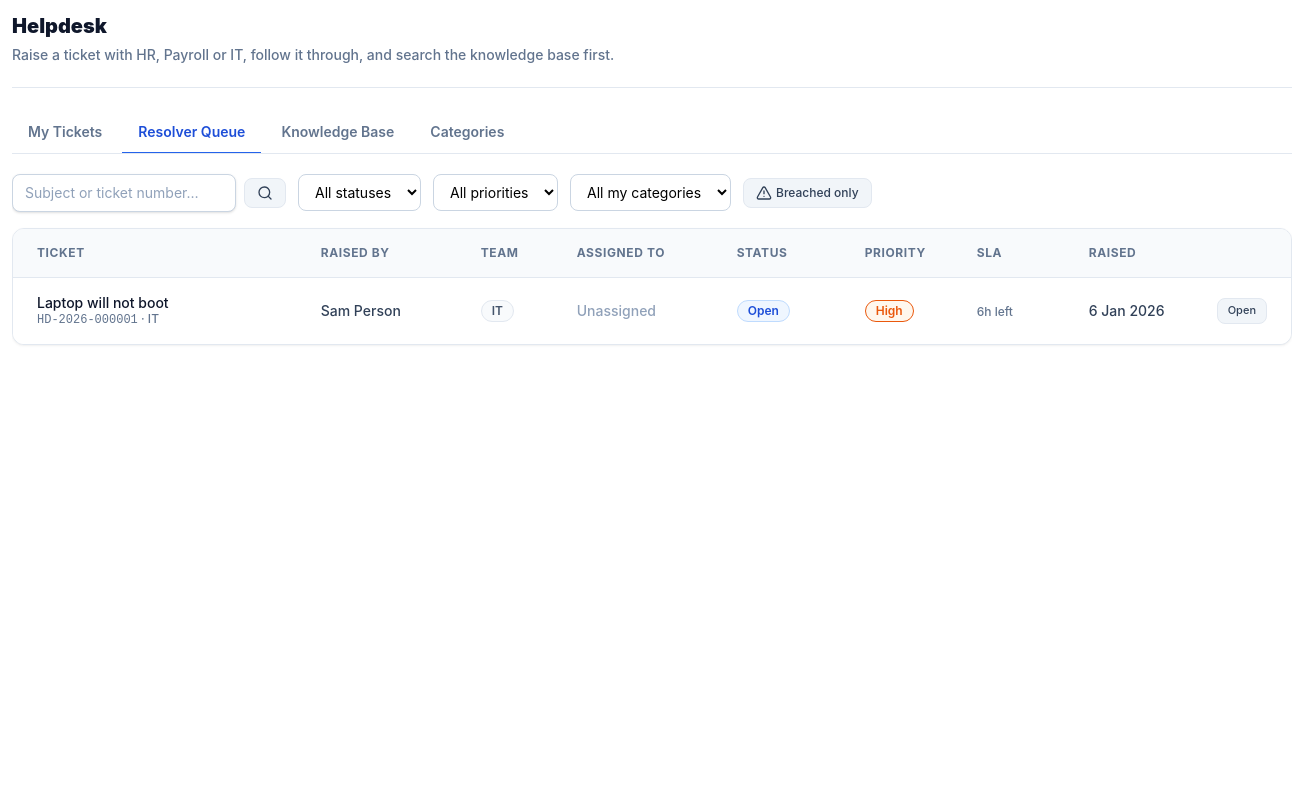
Test: the ticket detail › the owning team gets assignment, priority and the next moves
The width and height of the screenshot is (1292, 812).
Step 1. Click the button "Open" → x=1242, y=311, box left=1217, top=298, right=1267, bottom=324
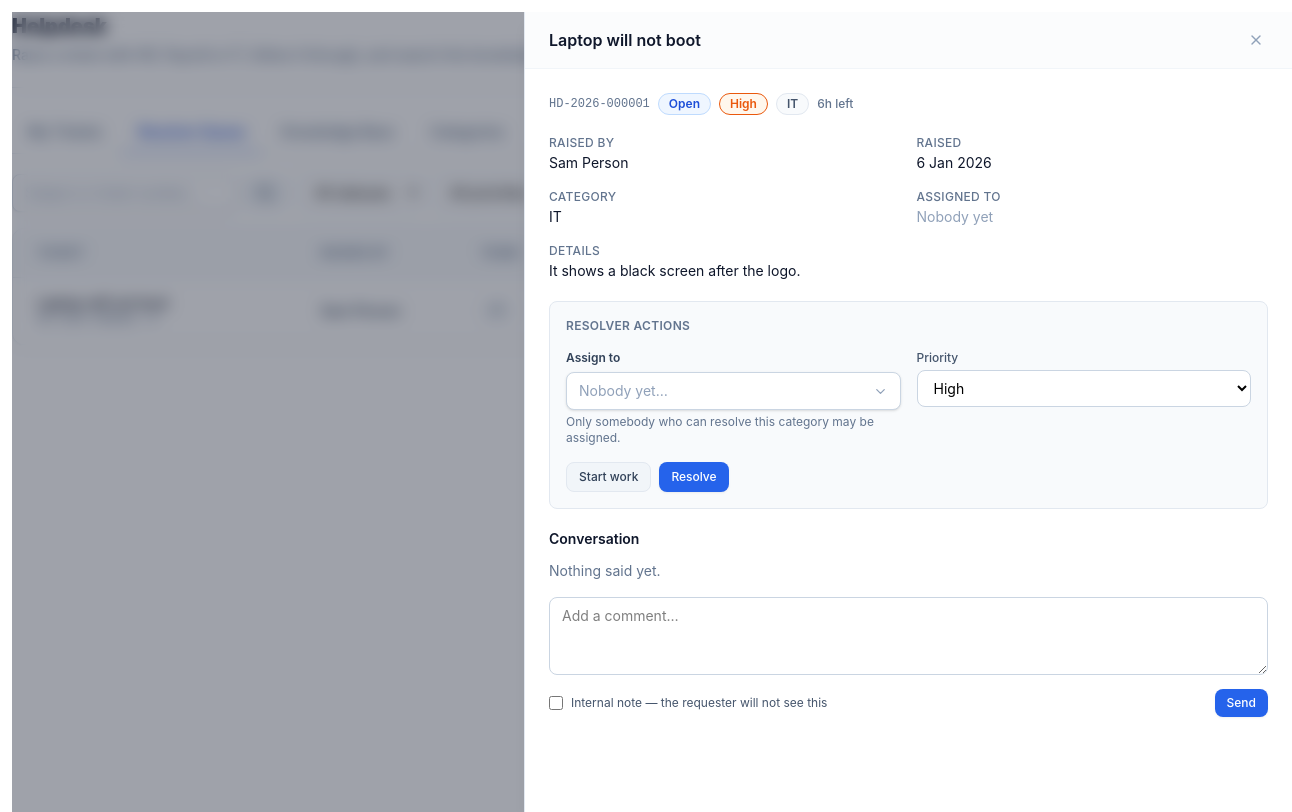
Expected: the heading "Resolver actions" is shown, left=566, top=318, right=690, bottom=333
Expected: the text "Assign to" is shown, left=566, top=350, right=620, bottom=365
Expected: the dropdown labelled "Priority" is shown, left=916, top=370, right=1251, bottom=407
